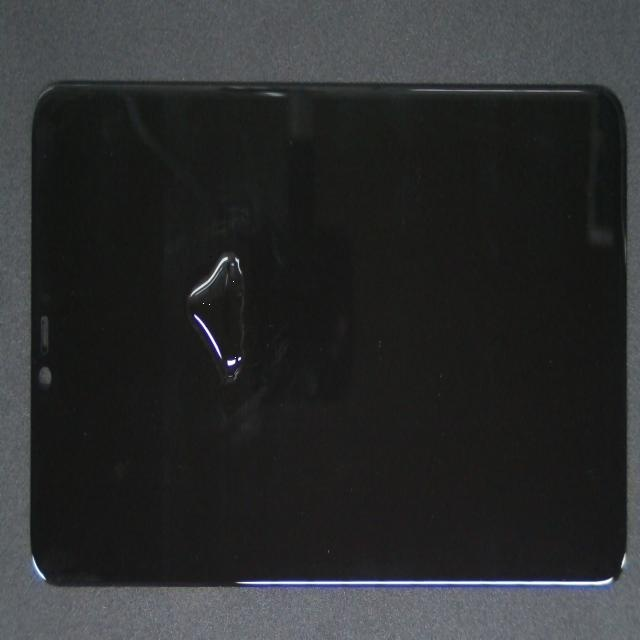oil: (63, 107, 307, 506)
